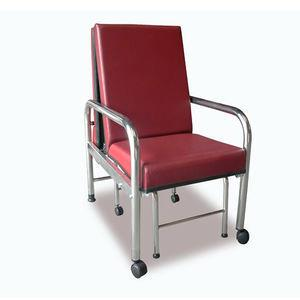chair: (84, 20, 255, 265)
